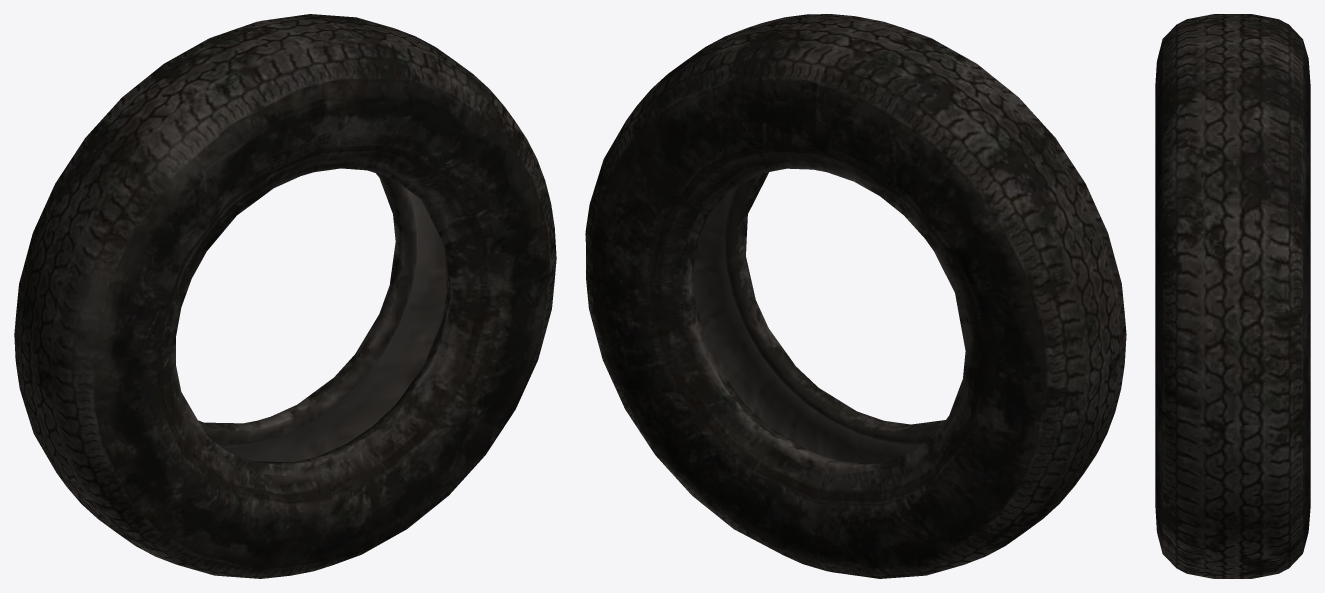
The model's file is old_tyre.glb.
3 views of the same model, side by side, from view 1: azimuth 30°, elevation 25°; view 2: azimuth 150°, elevation 25°; view 3: azimuth 270°, elevation 25° (orthographic). The views are drawn at different scales.
Visible parts, largest first — view 1: old_tyre; view 2: old_tyre; view 3: old_tyre.
Part boxes in pixels (x1,y1,x2,y2): old_tyre: (14,14,556,578); old_tyre: (585,14,1126,578); old_tyre: (1155,14,1310,578).
Bounding box in the file's own units: 0.6 × 0.6 × 0.165.
1 material, 1 textured.
